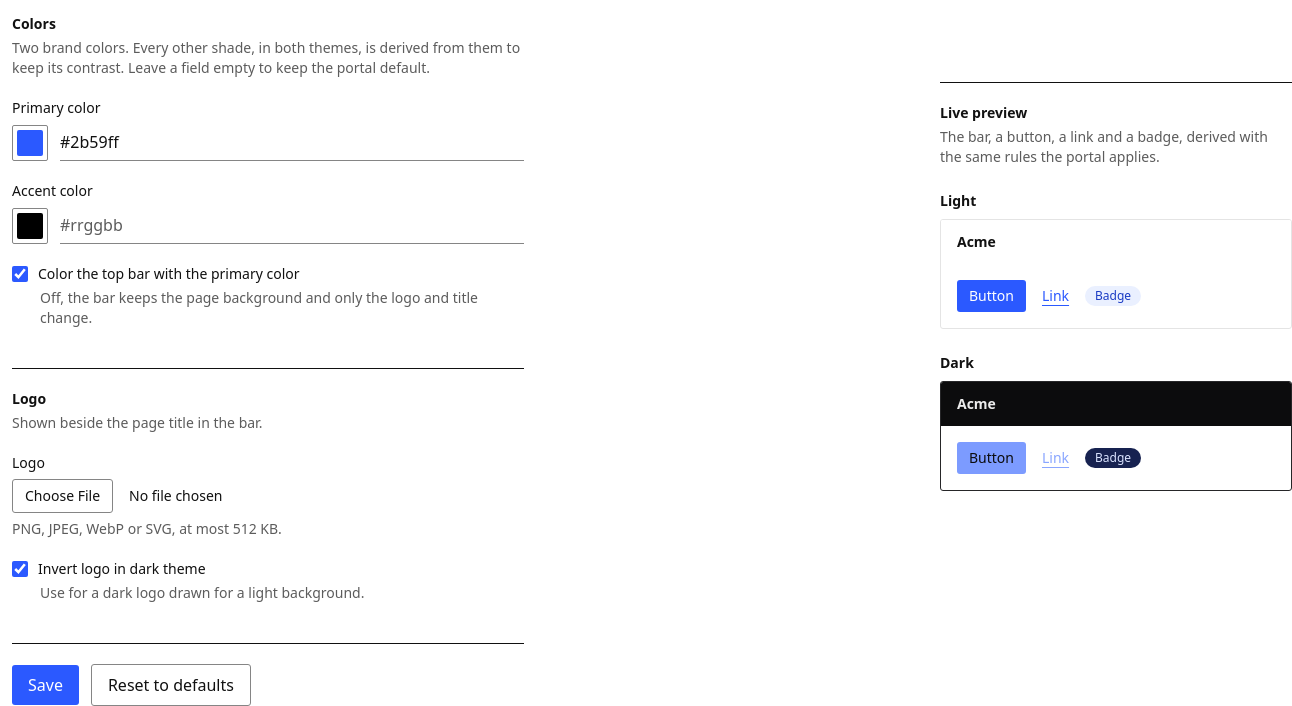
Scenario: branding form › resets to defaults
The image size is (1292, 706).
(page scrolled)
Click the button "Reset to defaults" at {"x": 171, "y": 685}, box [91, 664, 251, 705]
(page scrolled)
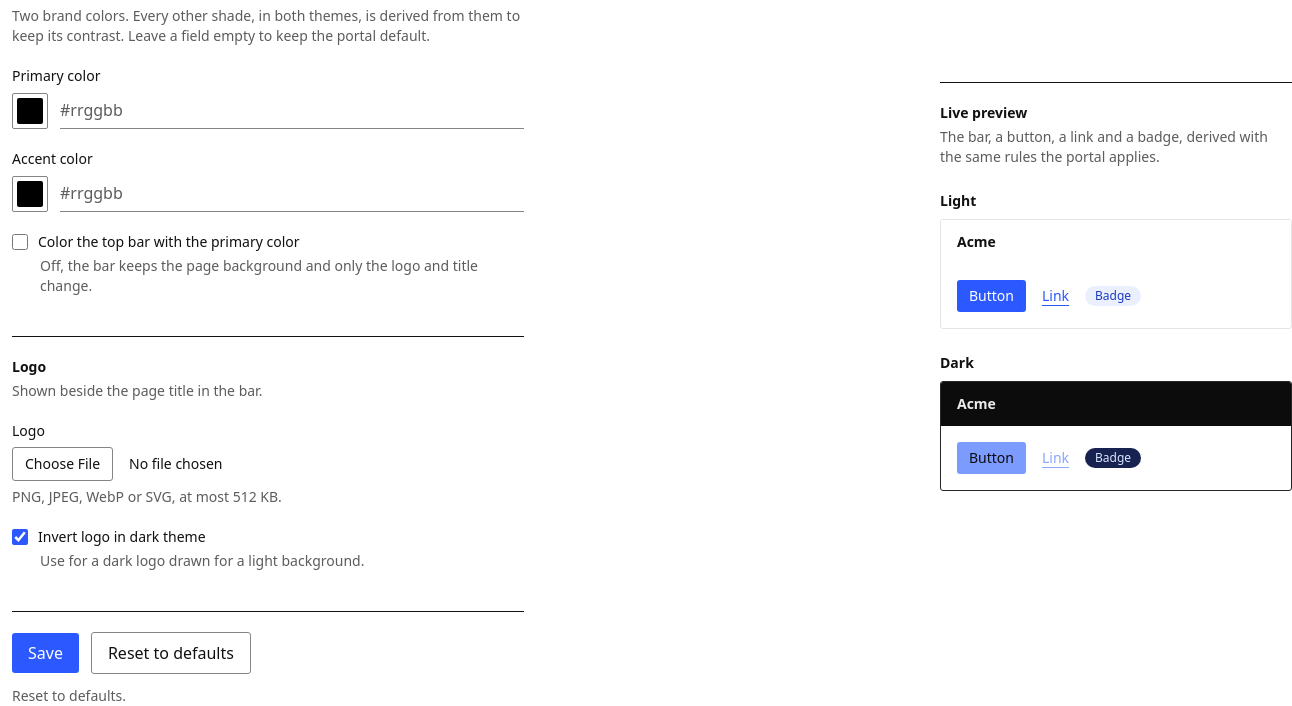
Now the text "Reset to defaults." is shown, box [12, 686, 126, 705]
